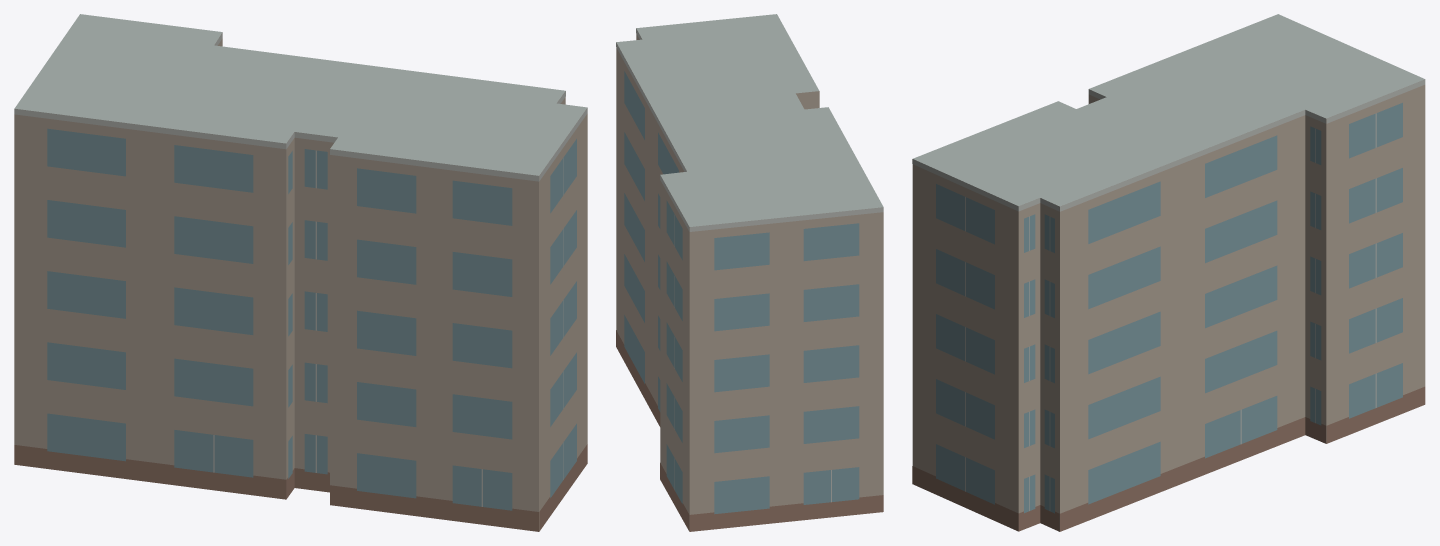
Rendered from survey-upis-32529035.glb.
3 views of the same model, side by side, from view 1: azimuth 30°, elevation 25°; view 2: azimuth 150°, elevation 25°; view 3: azimuth 270°, elevation 25° (orthographic). The views are drawn at different scales.
Parts seen in each view (by area): view 1: survey-upis-32529035.tmp; view 2: survey-upis-32529035.tmp; view 3: survey-upis-32529035.tmp.
Part boxes in pixels (box(x1,y1,x2,y2)): survey-upis-32529035.tmp: box(14, 14, 587, 531); survey-upis-32529035.tmp: box(616, 14, 883, 531); survey-upis-32529035.tmp: box(912, 14, 1425, 531).
Size of the model in its own units: 19.18 by 15.1 by 21.58.
